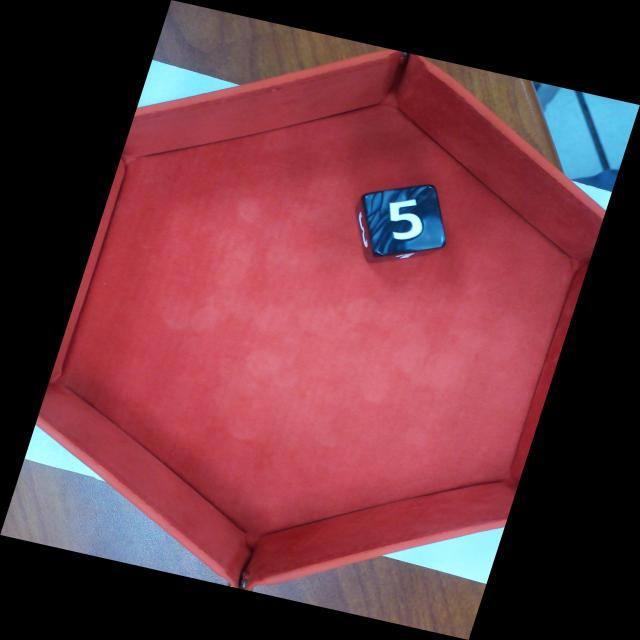dice: (363, 185, 446, 256)
